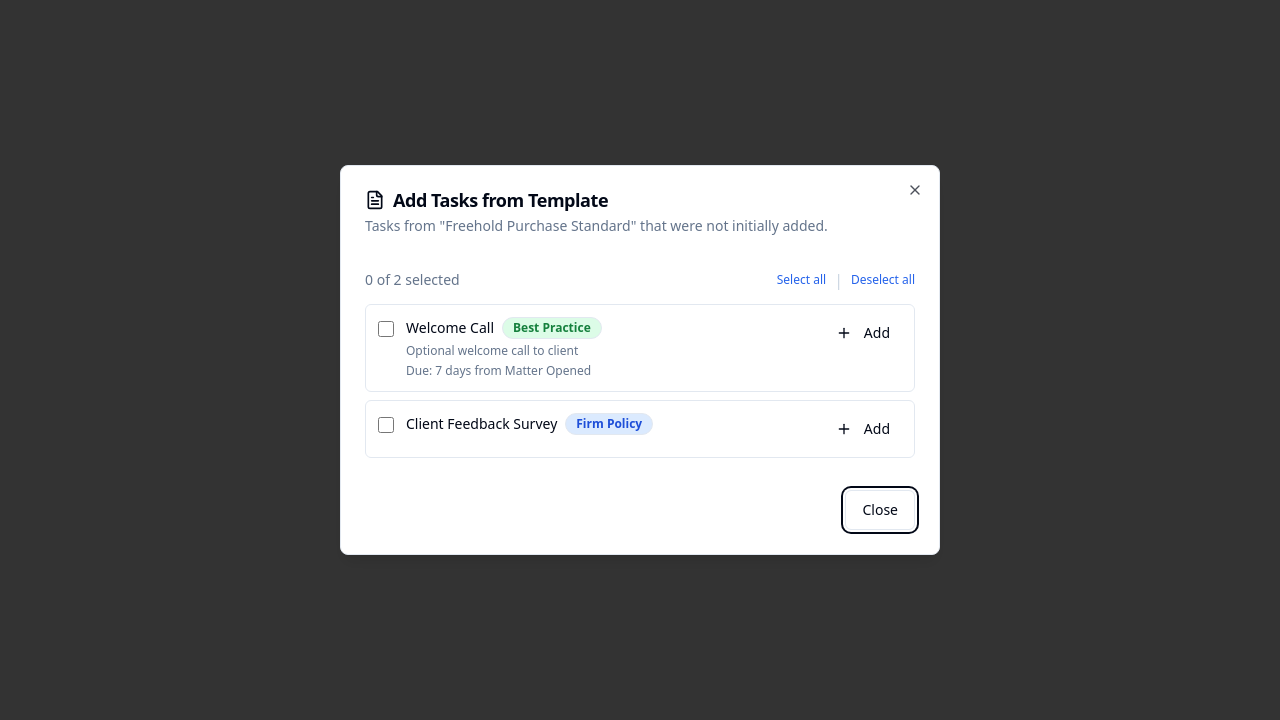
Test case: SkippedTasksDialog › Selection behavior › toggles item selection on checkbox click
Expected: the text "Welcome Call" is shown, [406,318,494,338]
Click the checkbox in the row of "Best Practice" at (386, 329), box [378,321,394,337]
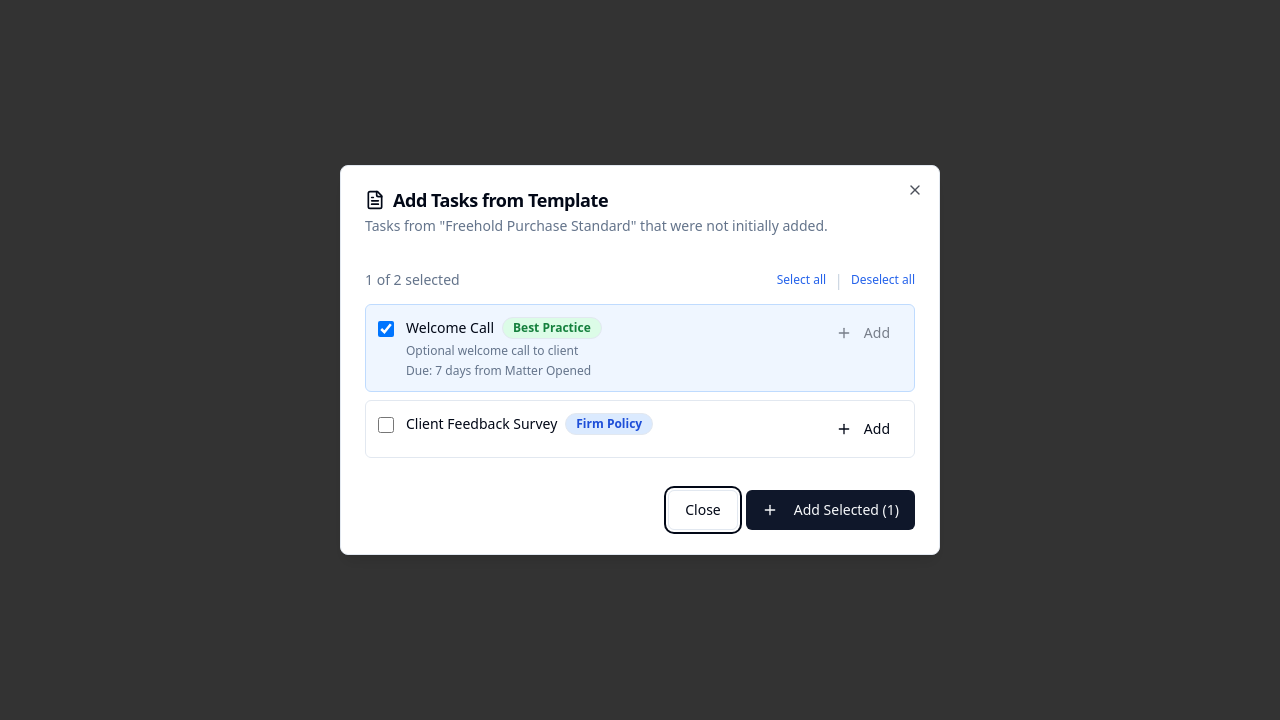
Now the text "1 of 2 selected" is shown, box [365,270,460,290]
